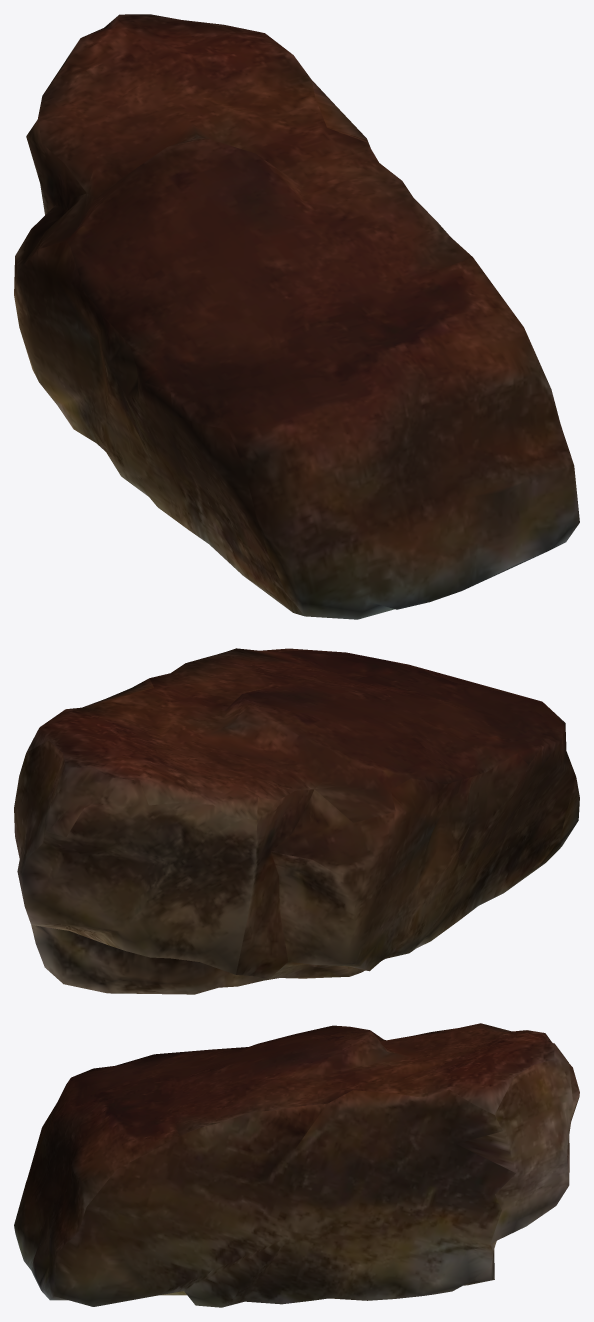
File: rock_07.glb
The picture shows the model from 3 angles, top to bottom: view 1: azimuth 30°, elevation 25°; view 2: azimuth 150°, elevation 25°; view 3: azimuth 270°, elevation 25°; orthographic projection. The views are drawn at different scales.
Parts seen in each view (by area): view 1: lod0; view 2: lod0; view 3: lod0.
Boxes of the visible parts, <box> form: lod0: <box>14,14,579,619</box>; lod0: <box>14,648,579,994</box>; lod0: <box>14,1023,579,1307</box>.
Size of what is drawn, in the model's own units: 1.36 by 1.16 by 2.6.
Materials: 1 (1 with a texture image).
